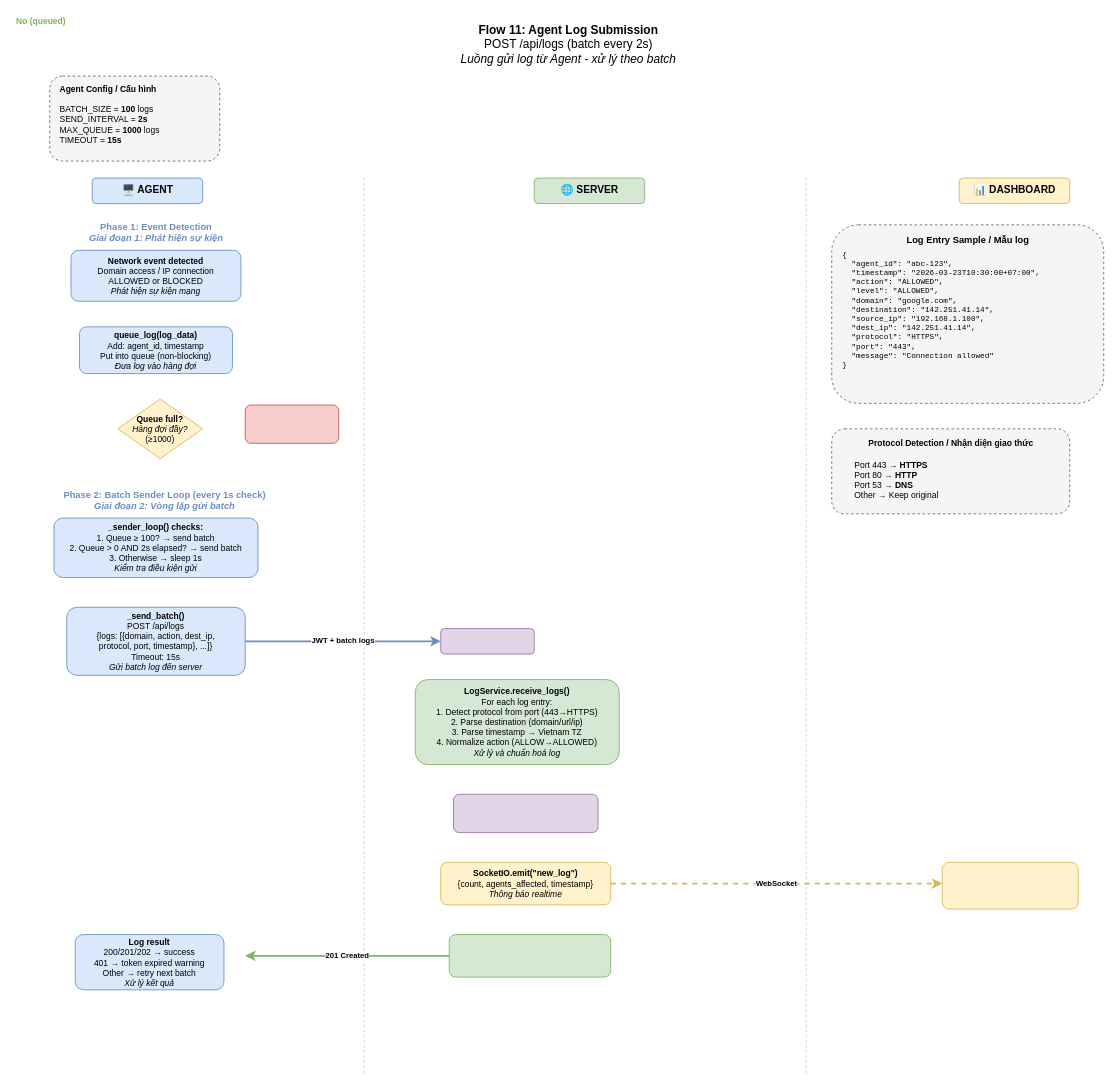
Some shapes in this 1119 by 1091 pixel diagram are drawn without their labels. Here are the shapes that lost their labels. From the top down, the box of each, then its label:
(244, 404, 339, 443): DROP log Log warning Bỏ log, ghi warning
(440, 628, 534, 654): @require_jwt
(453, 793, 598, 833): insert_many(logs) Bulk insert to MongoDB Lưu hàng loạt vào DB
(941, 861, 1078, 909): Logs page refresh New entries appear Stats update Trang logs cập nhật
(448, 934, 611, 977): 201 Created {success: true, processed_count: 100} Xác nhận đã nhận log
